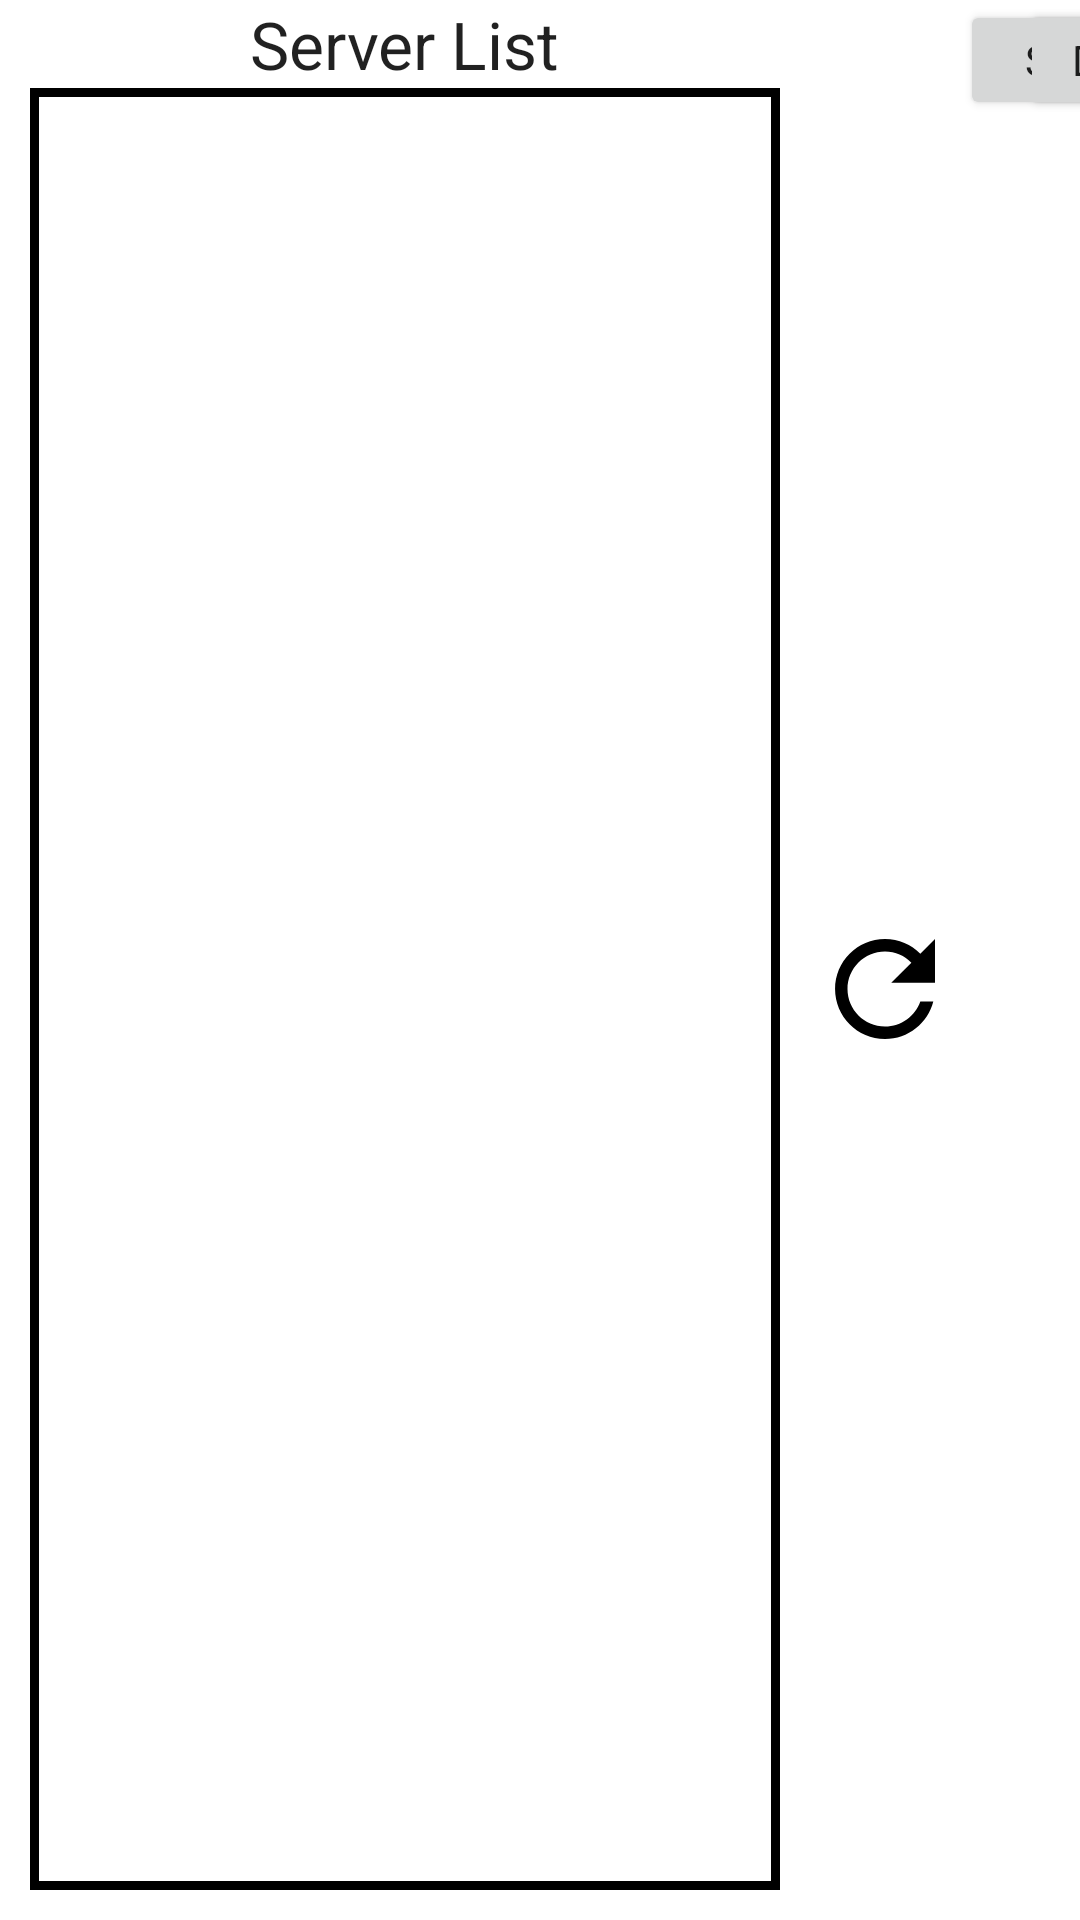

Locate icon controls on the screen. Image size 1080px×1920px, boxes as (x1, y1, x2, y2).
refresh: (835, 939, 935, 1039)
